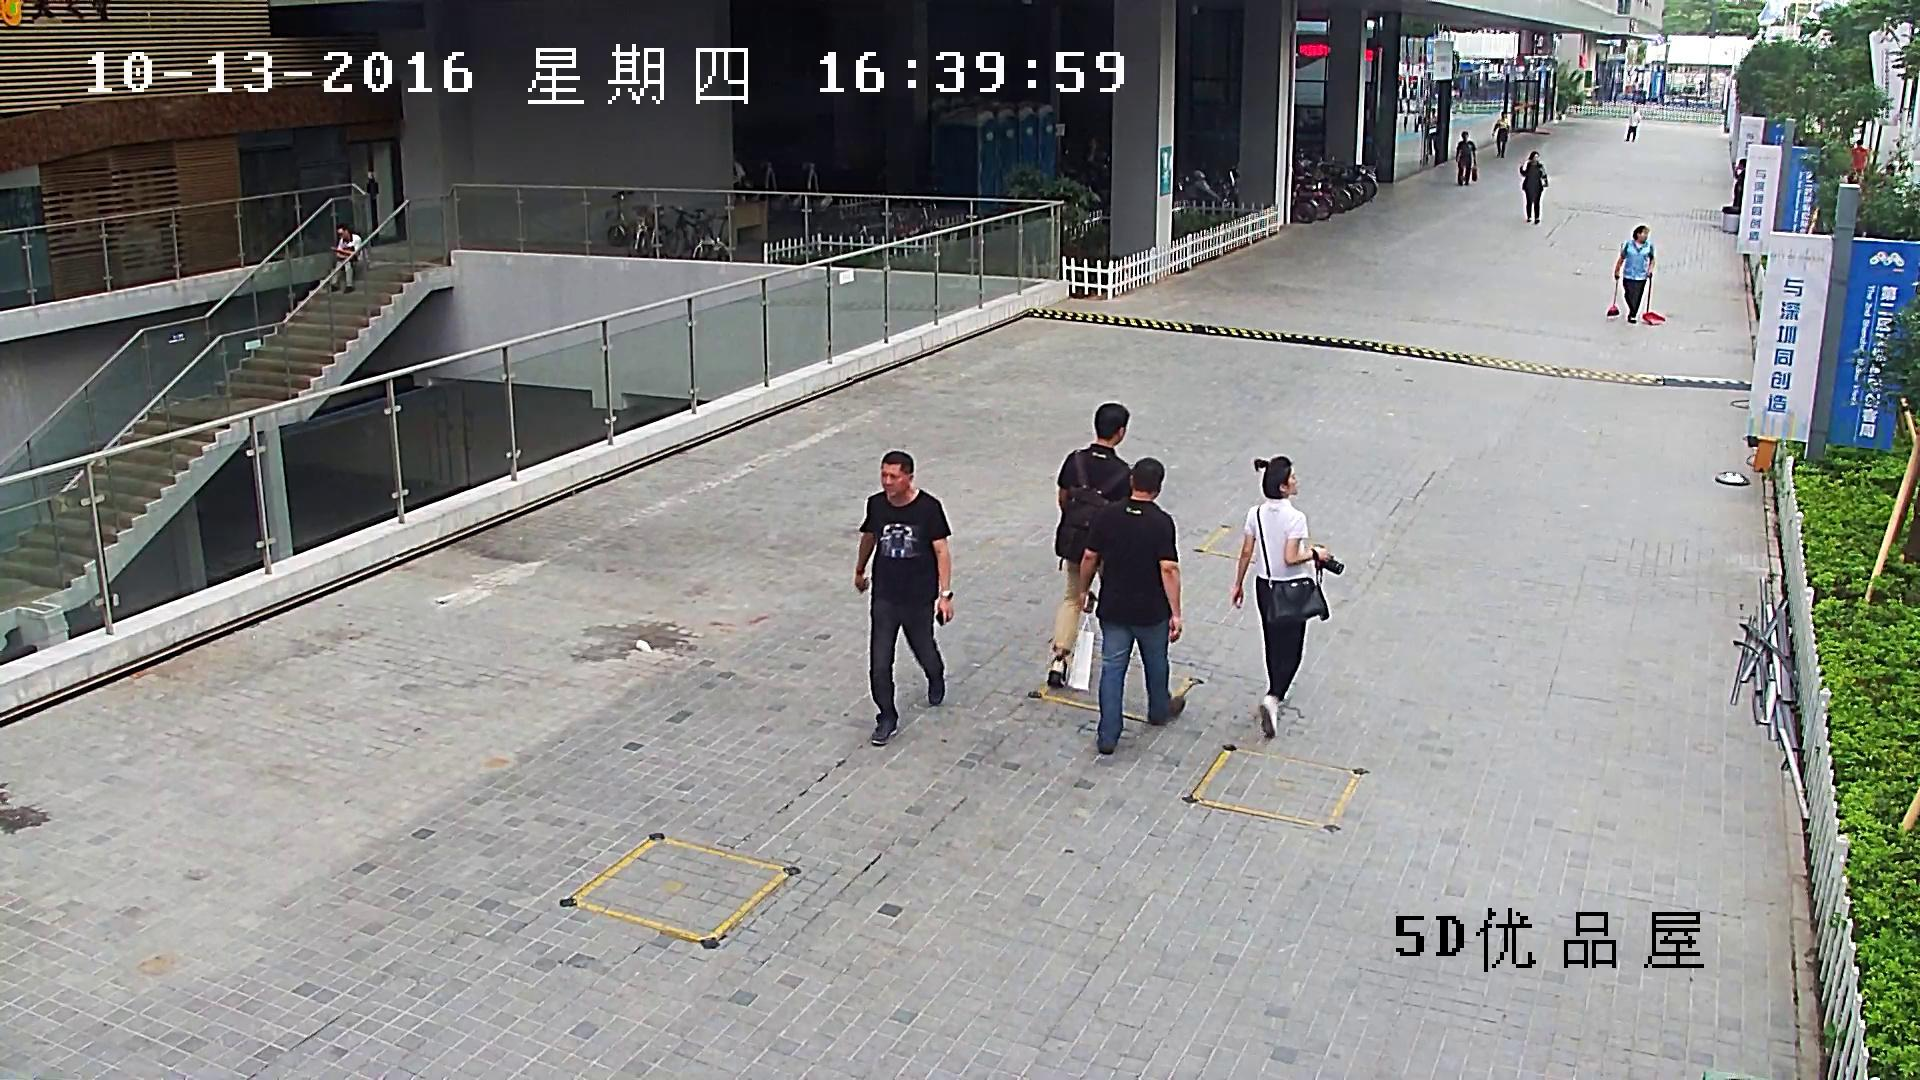person: (1077, 456, 1185, 756), (1232, 454, 1344, 739), (853, 450, 954, 746), (1046, 400, 1133, 692), (1606, 223, 1667, 326), (1612, 224, 1656, 324), (328, 222, 362, 295), (1519, 150, 1548, 225), (1455, 130, 1477, 187), (1490, 111, 1509, 159), (1731, 158, 1747, 208), (1850, 139, 1867, 184), (1624, 110, 1639, 142)
